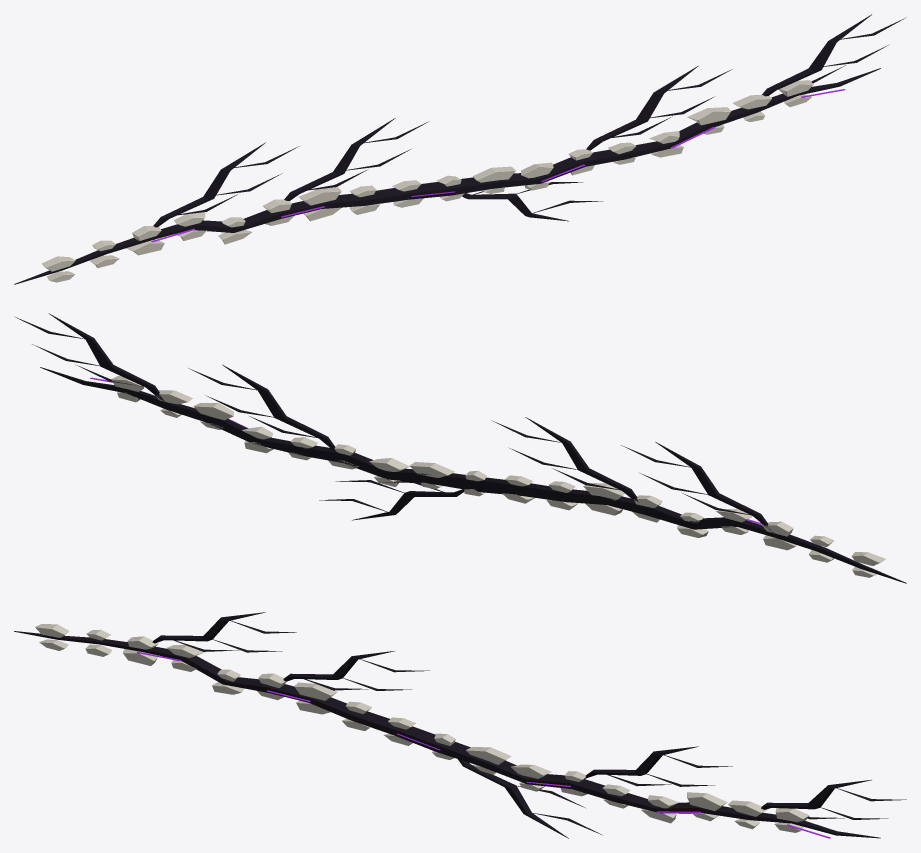
Rendered from SM_Aurelion_KIT_Z09Wound_1.fbx.
3 views of the same model, one above another, from view 1: azimuth 30°, elevation 25°; view 2: azimuth 150°, elevation 25°; view 3: azimuth 330°, elevation 25° (orthographic).
Parts seen in each view (by area): view 1: SM_Aurelion_KIT_Z09Wound_1; view 2: SM_Aurelion_KIT_Z09Wound_1; view 3: SM_Aurelion_KIT_Z09Wound_1.
Part boxes in pixels (bbox=[...]): SM_Aurelion_KIT_Z09Wound_1: bbox=[14, 14, 906, 284]; SM_Aurelion_KIT_Z09Wound_1: bbox=[14, 313, 906, 583]; SM_Aurelion_KIT_Z09Wound_1: bbox=[14, 612, 906, 838].
Bounding box in the file's own units: 170 × 2.6 × 27.74.
